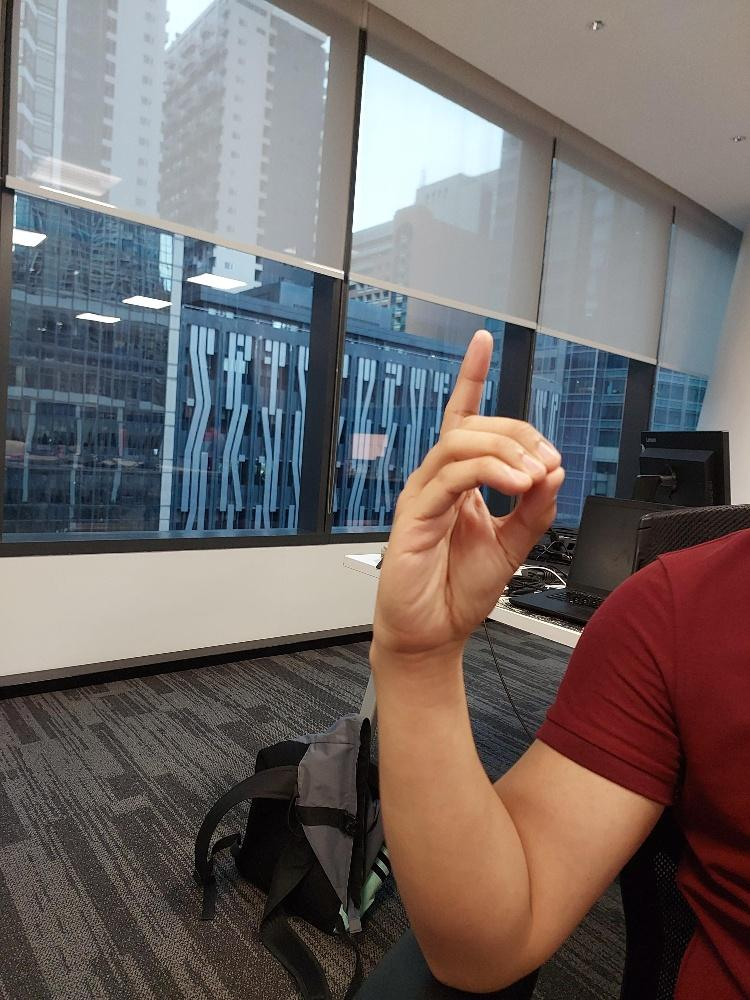d: (370, 325, 566, 658)
